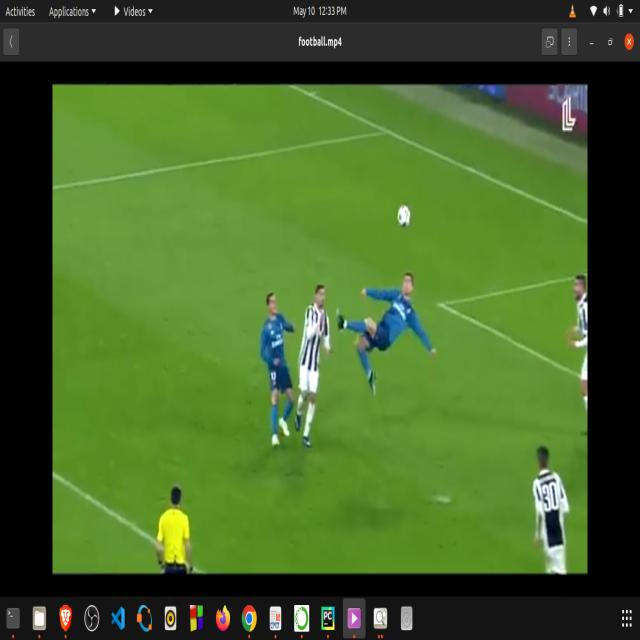ball: (390, 192, 420, 247)
player: (334, 262, 458, 388), (526, 425, 580, 570), (259, 275, 297, 453), (294, 267, 325, 451)
referee: (149, 475, 202, 578)
